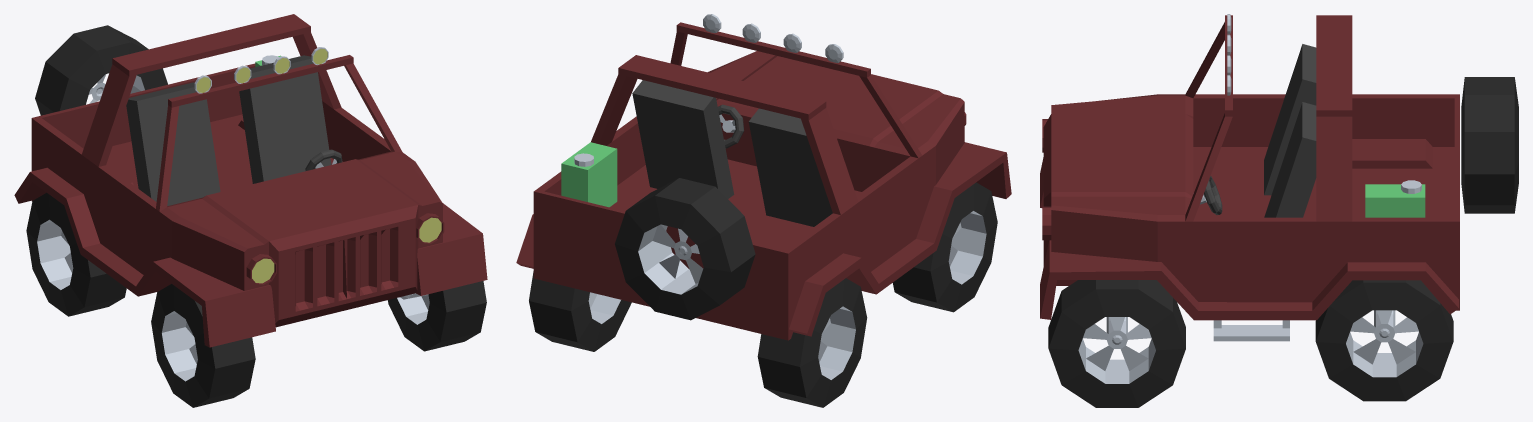
Rendered from Low_poly_jeep.dae.
3 renders of one model, left to right at view 1: azimuth 30°, elevation 25°; view 2: azimuth 150°, elevation 25°; view 3: azimuth 270°, elevation 25°, orthographic. The views are drawn at different scales.
Parts seen in each view (by area): view 1: Cube, Plane.002, Cube.003, Cylinder.012, Cube.005, Cylinder.013, Cylinder.002, Cylinder, Plane, Cylinder.014, Cylinder.004; view 2: Cube, Cylinder.002, Cylinder.013, Plane.002, Cube.003, Cylinder.012, Cube.005, Cylinder.001, Cube.002, Plane, Torus.002; view 3: Cube, Cylinder, Cylinder.001, Plane, Cylinder.002, Cube.003, Cube.005, Plane.002, Cube.002, Cube.001, Torus.002.
Boxes of the visible parts, x1,y1,x2,y2 form: Cube: (31,14,442,327); Plane.002: (14,163,275,347); Cube.003: (239,55,331,183); Cylinder.012: (151,284,255,407); Cube.005: (126,82,220,205); Cylinder.013: (26,192,126,316); Cylinder.002: (35,25,167,115); Cylinder: (388,281,486,351); Plane: (238,120,487,295); Cylinder.014: (246,254,276,285); Cylinder.004: (416,213,444,245); Cube: (533,22,964,340); Cylinder.002: (615,178,755,320); Cylinder.013: (757,278,867,407); Plane.002: (781,142,1011,336); Cube.003: (632,80,734,198); Cylinder.012: (893,182,997,312); Cube.005: (748,108,832,226); Cylinder.001: (529,271,631,351); Cube.002: (561,142,617,207); Plane: (516,198,635,268); Torus.002: (718,104,744,148); Cube: (1043,15,1459,310); Cylinder: (1048,280,1185,407); Cylinder.001: (1315,280,1453,401); Plane: (1040,240,1458,320); Cylinder.002: (1461,77,1518,213); Cube.003: (1264,102,1316,217); Cube.005: (1264,44,1316,195); Plane.002: (1040,139,1432,207); Cube.002: (1365,184,1425,217); Cube.001: (1213,320,1289,341); Torus.002: (1200,176,1222,214).
Bounding box in the file's own units: 3.49 × 4.75 × 3.16.
